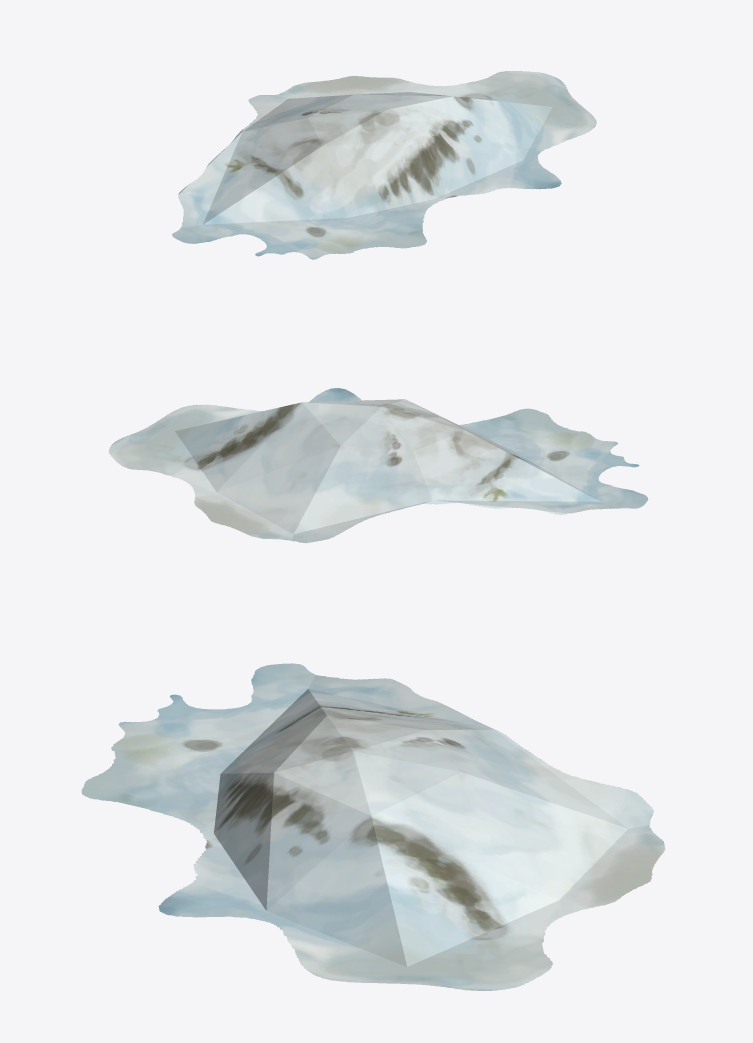
File: snowydecal_01.fbx
The picture shows the model from 3 angles, top to bottom: view 1: azimuth 30°, elevation 25°; view 2: azimuth 150°, elevation 25°; view 3: azimuth 270°, elevation 25°; orthographic projection. The views are drawn at different scales.
Parts seen in each view (by area): view 1: obj0.028; view 2: obj0.028; view 3: obj0.028.
Boxes of the visible parts, box(x1,y1,x2,y2) form: obj0.028: box(172, 70, 596, 259); obj0.028: box(108, 388, 648, 543); obj0.028: box(81, 663, 665, 990).
Bounding box in the file's own units: 6.63 × 0.6456 × 5.16.
